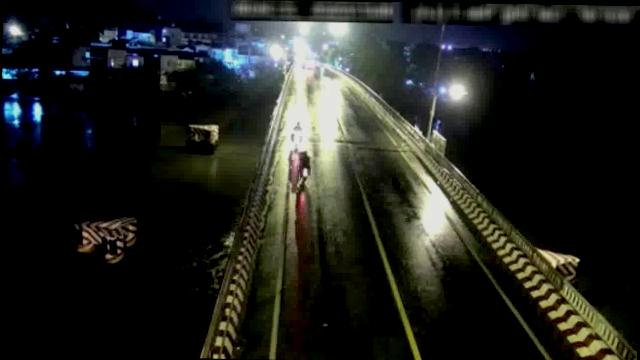Bike: (298, 146, 312, 180)
